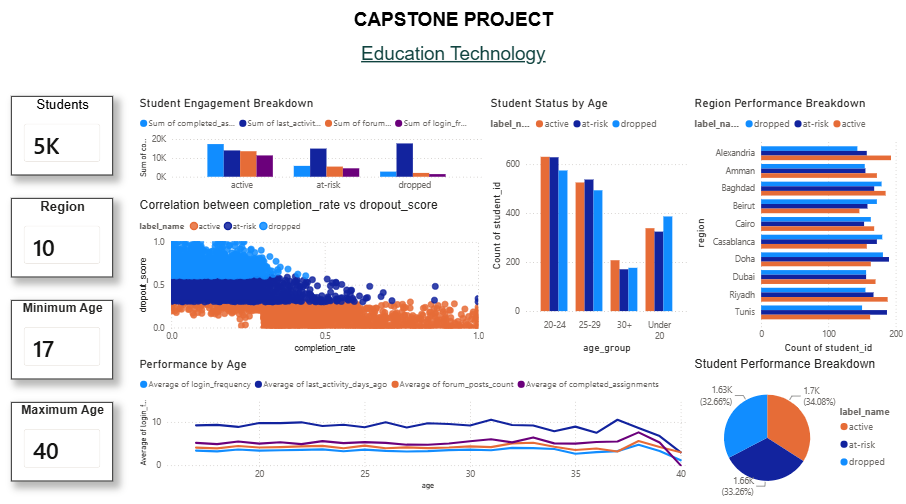

Layout of this report page (visuals, bound fields, positions):
{"tool":"powerbi","page":{"name":"Page 1","canvas":[1280,720],"ordinal":0},"visuals":[{"type":"cardVisual","title":"Students","fields":{"Data":["CountNonNull(EdTech.student_id)"]},"box":[16,144,144,112],"z":0},{"type":"textbox","box":[0,16,1280,112],"z":1000},{"type":"pieChart","title":"Student Performance Breakdown","fields":{"Category":["EdTech.label_name"],"Y":["CountNonNull(EdTech.student_id)"]},"box":[976,512,304,208],"z":2000},{"type":"cardVisual","title":"Region","fields":{"Data":["Count(EdTech.region)"]},"box":[16,288,144,112],"z":3000},{"type":"clusteredBarChart","title":"Region Performance Breakdown","fields":{"Category":["EdTech.region"],"Series":["EdTech.label_name"],"Y":["Count(EdTech.student_id)"]},"box":[976,144,304,368],"z":4000},{"type":"scatterChart","title":"Correlation between completion_rate vs dropout_score","fields":{"X":["EdTech.completion_rate"],"Y":["EdTech.dropout_score"],"Series":["EdTech.label_name"]},"box":[192,288,496,224],"z":5000},{"type":"clusteredColumnChart","title":"Student Engagement Breakdown","fields":{"Category":["EdTech.label_name"],"Y":["Sum(EdTech.completed_assignments)","Sum(EdTech.last_activity_days_ago)","Sum(EdTech.forum_posts_count)","Sum(EdTech.login_frequency)"]},"box":[192,144,496,144],"z":6000},{"type":"clusteredColumnChart","title":"Student Status by Age","fields":{"Category":["EdTech.age_group"],"Y":["CountNonNull(EdTech.student_id)"],"Series":["EdTech.label_name"]},"box":[688,144,288,368],"z":7000},{"type":"lineChart","title":"Performance by Age","fields":{"Y":["Avg(EdTech.login_frequency)","Avg(EdTech.last_activity_days_ago)","Avg(EdTech.forum_posts_count)","Avg(EdTech.completed_assignments)"],"Category":["EdTech.age"]},"box":[192,512,784,192],"z":8000},{"type":"cardVisual","title":"Minimum Age","fields":{"Data":["Min(EdTech.age)"]},"box":[16,432,144,112],"z":9000},{"type":"cardVisual","title":"Maximum Age","fields":{"Data":["Max(EdTech.age)"]},"box":[16,576,144,112],"z":10000}]}

Visuals, with their boxes in screenshot pixels (x1, y1, x2, y2), scaled from the page's 1280x720 canvas onto the 906x504 screenshot:
"Students" cardVisual: [x1=11, y1=101, x2=113, y2=179]
textbox: [x1=0, y1=11, x2=905, y2=90]
"Student Performance Breakdown" pieChart: [x1=691, y1=358, x2=905, y2=503]
"Region" cardVisual: [x1=11, y1=202, x2=113, y2=280]
"Region Performance Breakdown" clusteredBarChart: [x1=691, y1=101, x2=905, y2=358]
"Correlation between completion_rate vs dropout_score" scatterChart: [x1=136, y1=202, x2=487, y2=358]
"Student Engagement Breakdown" clusteredColumnChart: [x1=136, y1=101, x2=487, y2=202]
"Student Status by Age" clusteredColumnChart: [x1=487, y1=101, x2=691, y2=358]
"Performance by Age" lineChart: [x1=136, y1=358, x2=691, y2=493]
"Minimum Age" cardVisual: [x1=11, y1=302, x2=113, y2=381]
"Maximum Age" cardVisual: [x1=11, y1=403, x2=113, y2=482]
